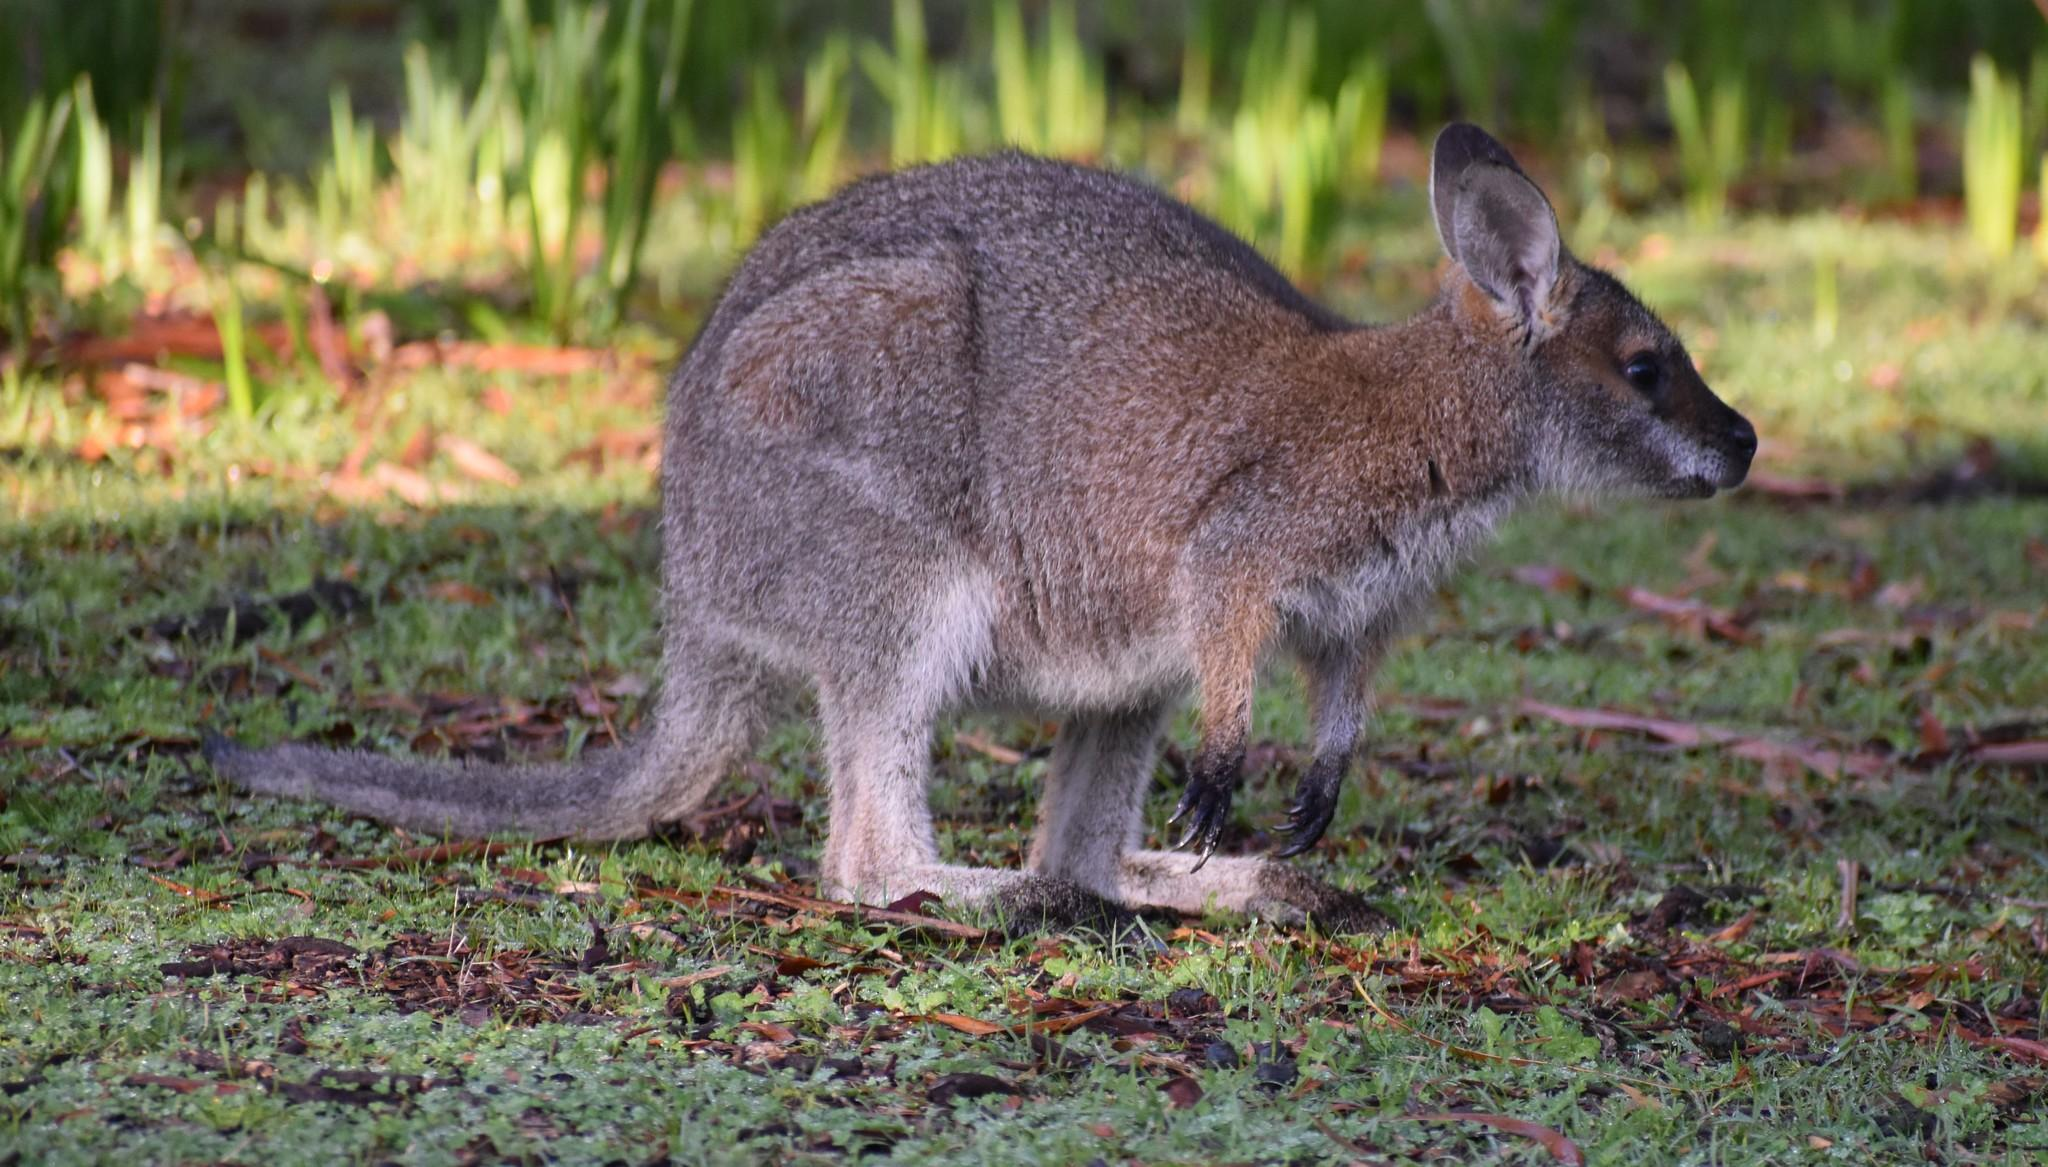Red-necked wallaby: (205, 110, 1767, 925)
